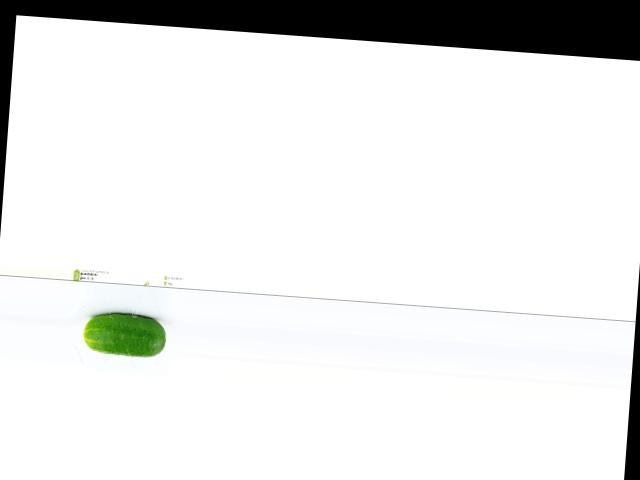cucumber: (83, 310, 168, 357)
